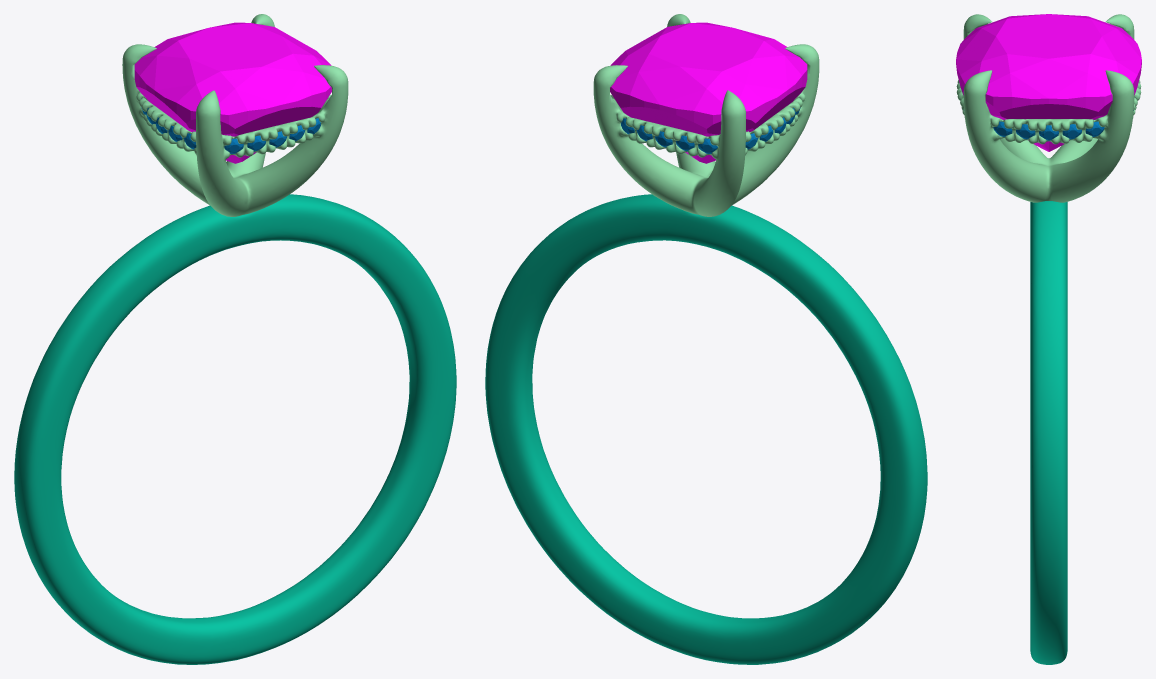
The model's file is BE1D20200_CU_200ct_RENDER.glb.
The picture shows the model from 3 angles, left to right: view 1: azimuth 30°, elevation 25°; view 2: azimuth 150°, elevation 25°; view 3: azimuth 270°, elevation 25°; orthographic projection.
Parts seen in each view (by area): view 1: Metal 01, CS_Diamond_Cushion, Metal 02; view 2: Metal 01, CS_Diamond_Cushion, Metal 02; view 3: Metal 01, CS_Diamond_Cushion, Metal 02.
Boxes of the visible parts, <box> form: Metal 01: <box>14,194,456,664</box>; CS_Diamond_Cushion: <box>134,22,331,163</box>; Metal 02: <box>122,14,348,216</box>; Metal 01: <box>485,194,927,664</box>; CS_Diamond_Cushion: <box>610,22,807,163</box>; Metal 02: <box>593,14,819,216</box>; Metal 01: <box>1030,201,1067,664</box>; CS_Diamond_Cushion: <box>956,14,1141,151</box>; Metal 02: <box>956,14,1141,202</box>.
Size of the model in its own units: 20.1 by 26.96 by 7.5.
